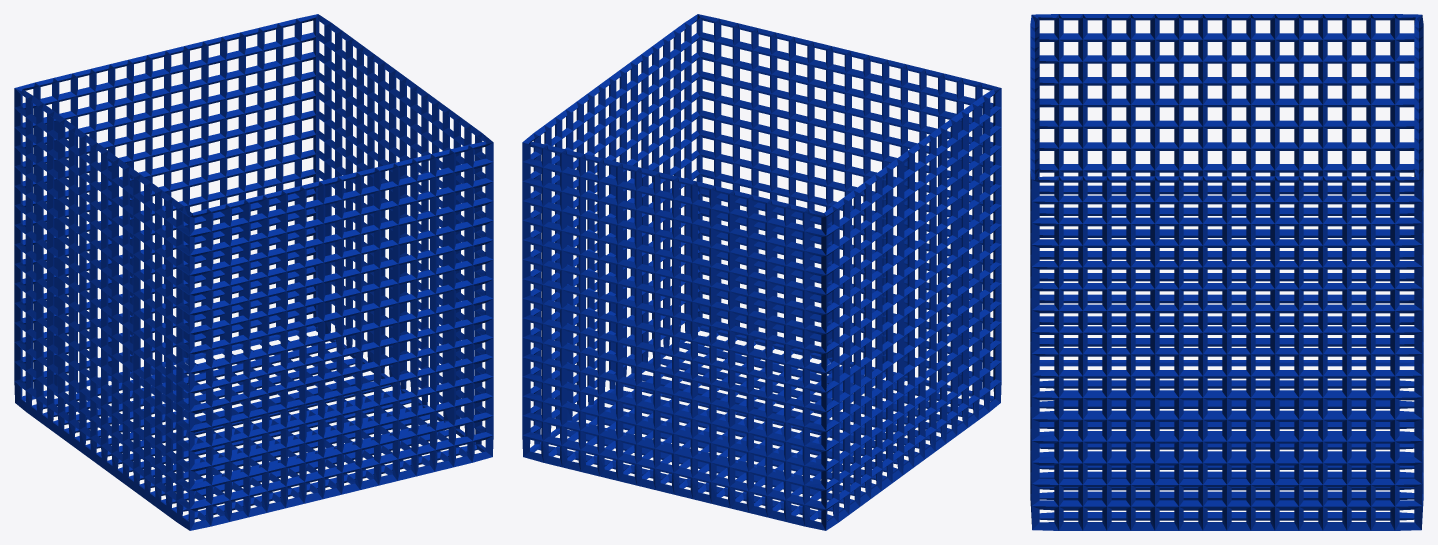
The model's file is Crate.obj.
3 renders of one model, left to right at view 1: azimuth 30°, elevation 25°; view 2: azimuth 150°, elevation 25°; view 3: azimuth 270°, elevation 25°, orthographic. The views are drawn at different scales.
Visible parts, largest first — view 1: Cube; view 2: Cube; view 3: Cube.
Part boxes in pixels (x1,y1,x2,y2): Cube: [14, 14, 493, 530]; Cube: [522, 14, 1001, 530]; Cube: [1030, 14, 1423, 530].
Bounding box in the file's own units: 5.81 × 5.74 × 5.81.
